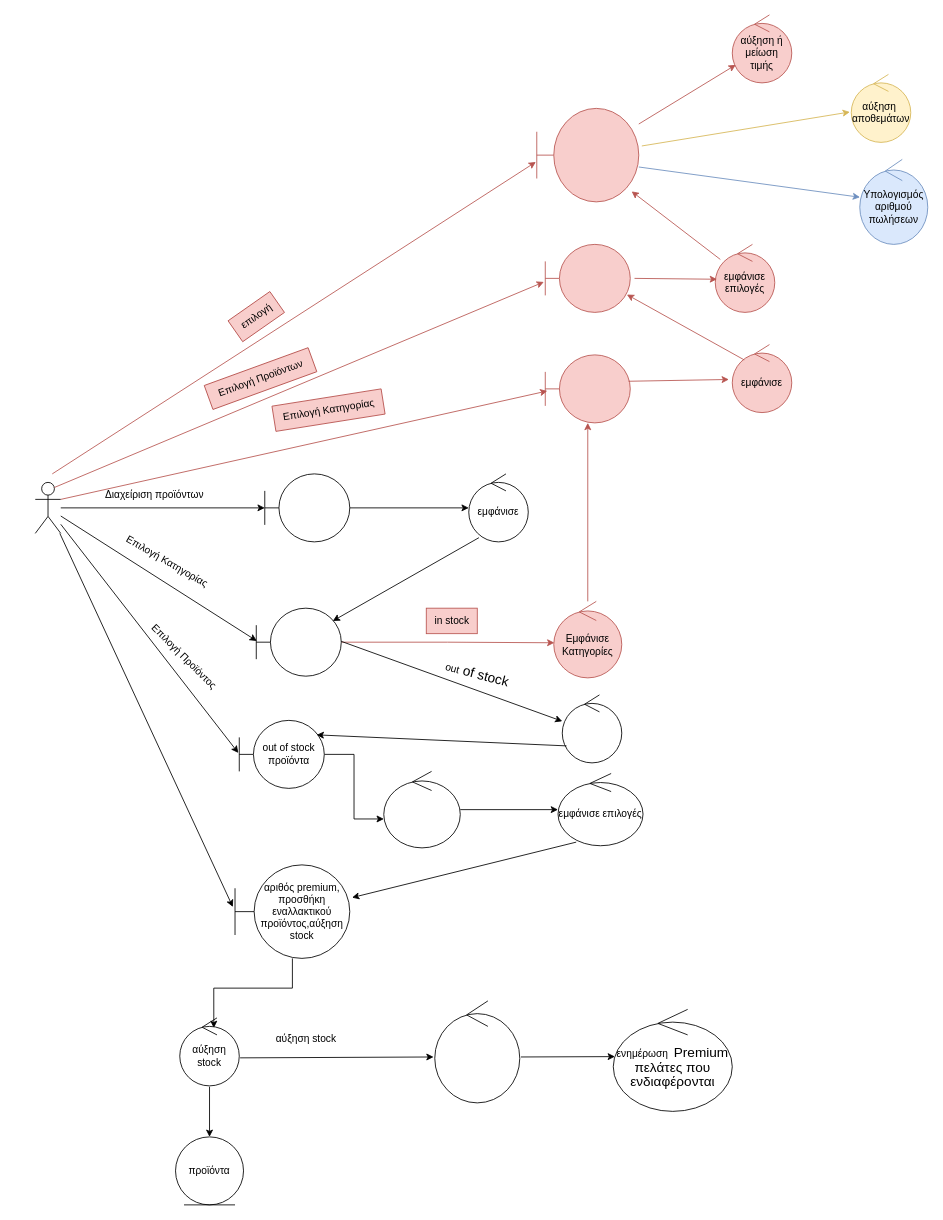
The diagram is 943 pixels wide and 1220 high, and some of its shapes have lost their labels. Each missing label, with the box of its shape:
in stock ή out of stock: (255, 607, 341, 676)
αρχική οθόνη: (264, 473, 350, 542)
Αύξηση μείωση τιμής, Αύξηση αποθεμάτων, και Αριθμό πωλήσεων: (536, 108, 639, 202)
διαγραφή απο out of stock και μετάβαση in stock: (434, 1000, 520, 1103)
ενφάνισε: (561, 694, 622, 763)
Κατηγορίες Προϊόντων: (544, 354, 630, 423)
προϊόντα κατηγορίας: (544, 244, 630, 312)
υπολόγισε πόσοι premium ενδιαφέρονται: (383, 771, 460, 848)
φαρμακοποιός: (34, 482, 61, 533)
